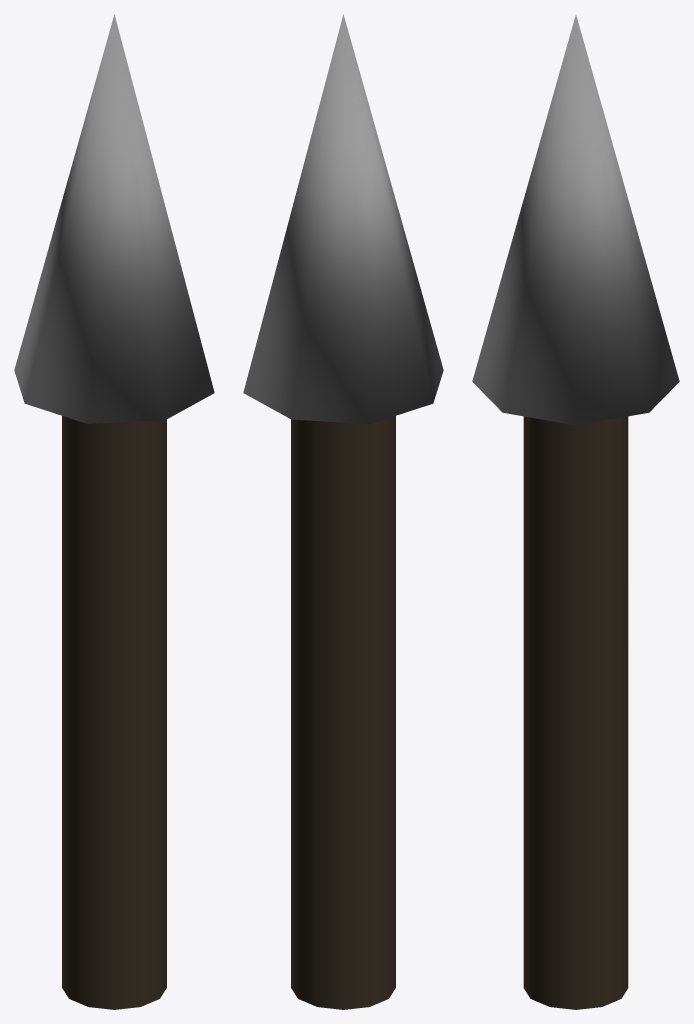
The model's file is LongSpike.fbx.
The picture shows the model from 3 angles, left to right: view 1: azimuth 30°, elevation 25°; view 2: azimuth 150°, elevation 25°; view 3: azimuth 270°, elevation 25°; orthographic projection.
Parts seen in each view (by area): view 1: Long Spike; view 2: Long Spike; view 3: Long Spike.
Boxes of the visible parts, x1=… form: Long Spike: x1=14, y1=14, x2=214, y2=1009; Long Spike: x1=243, y1=14, x2=443, y2=1009; Long Spike: x1=472, y1=15, x2=679, y2=1009.
Bounding box in the file's own units: 5.52 × 28.57 × 5.52.
